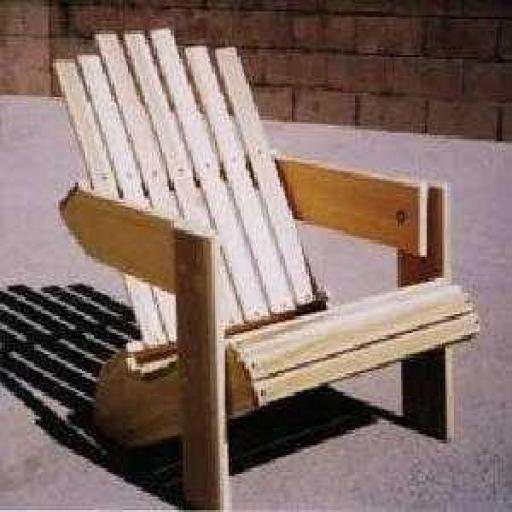chair: (44, 26, 484, 512)
